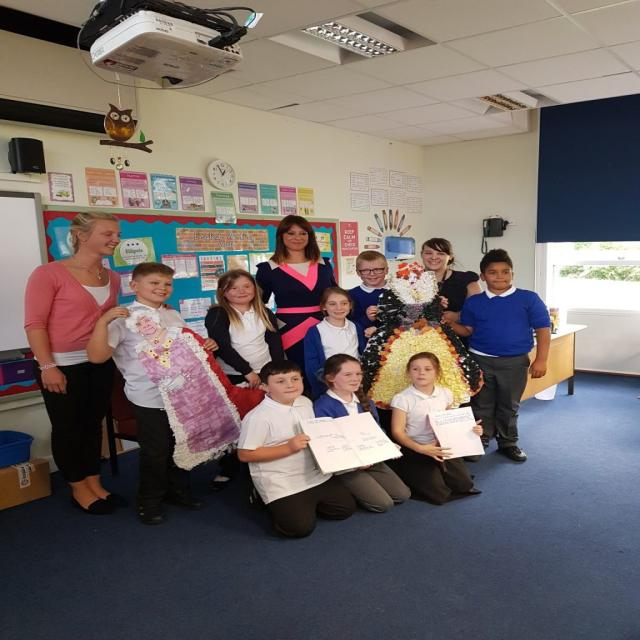body: (84, 259, 222, 526), (16, 206, 132, 519), (434, 247, 554, 465), (235, 360, 357, 538), (310, 353, 412, 515), (388, 351, 485, 505), (252, 214, 336, 372), (203, 268, 287, 392), (344, 249, 449, 332), (301, 284, 368, 404), (419, 237, 484, 355)
